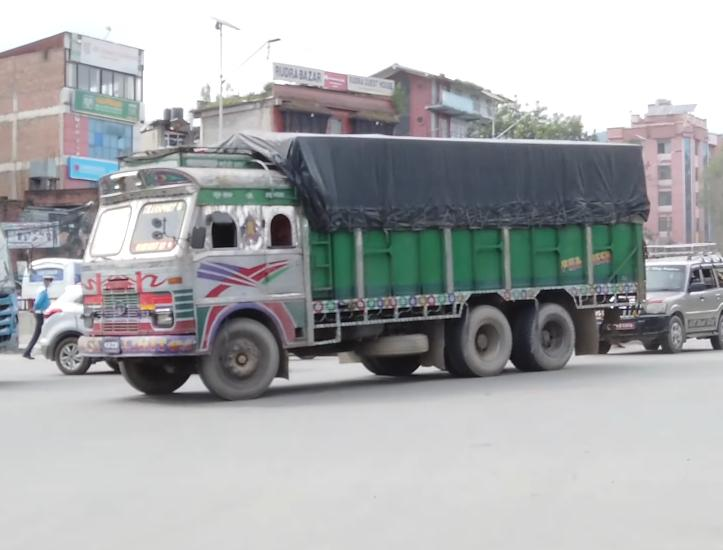SUV: (605, 247, 723, 361)
car: (38, 281, 110, 380)
truck: (75, 130, 651, 400)
